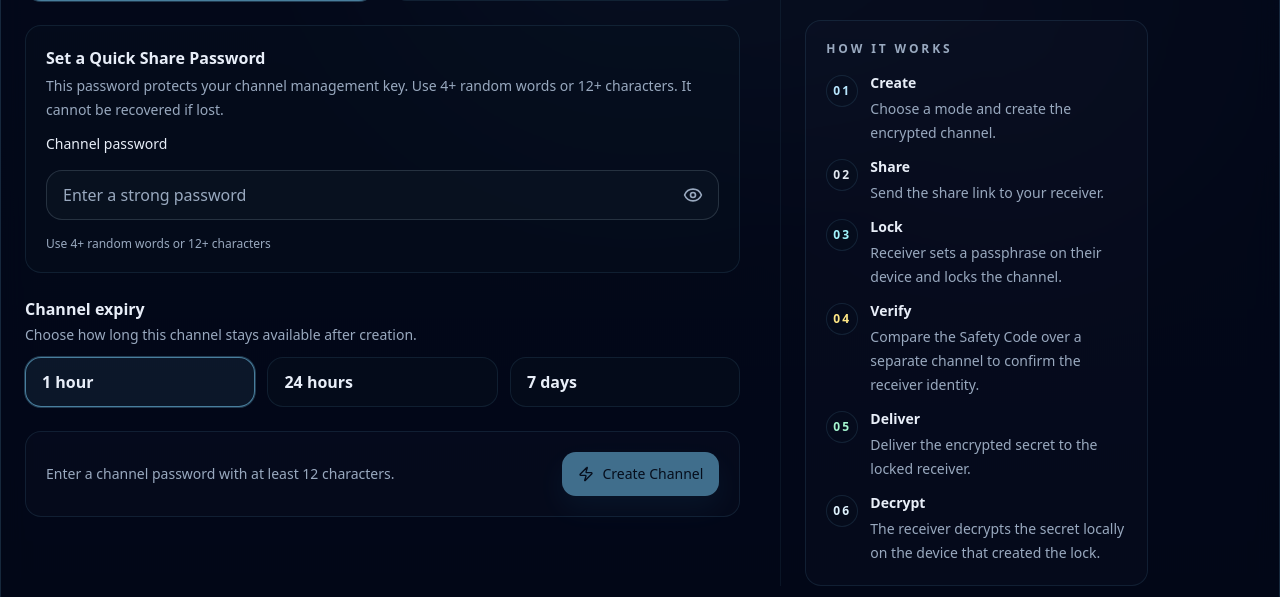
CreatePage integration › shows expiry hint in success summary
The width and height of the screenshot is (1280, 597).
(page scrolled)
Click the radio button with test id "create-ttl-one-day": (383, 382) [267,357,498,407]
(page scrolled)
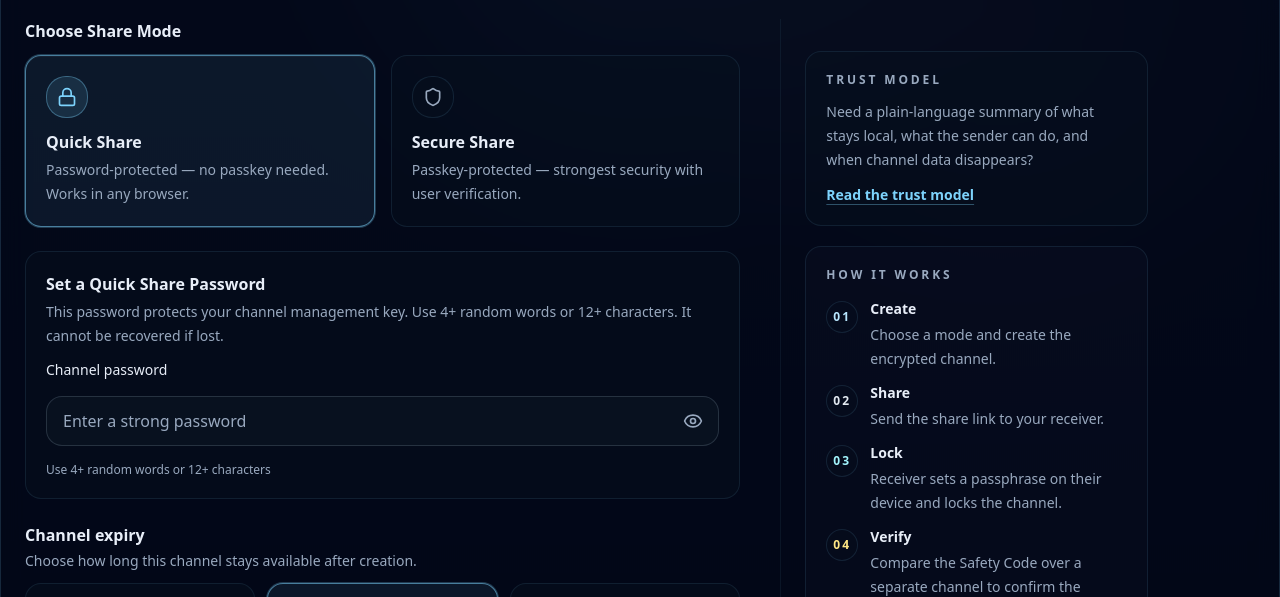
Click the button with test id "mode-card-secure": (433, 97) [391,55,740,227]
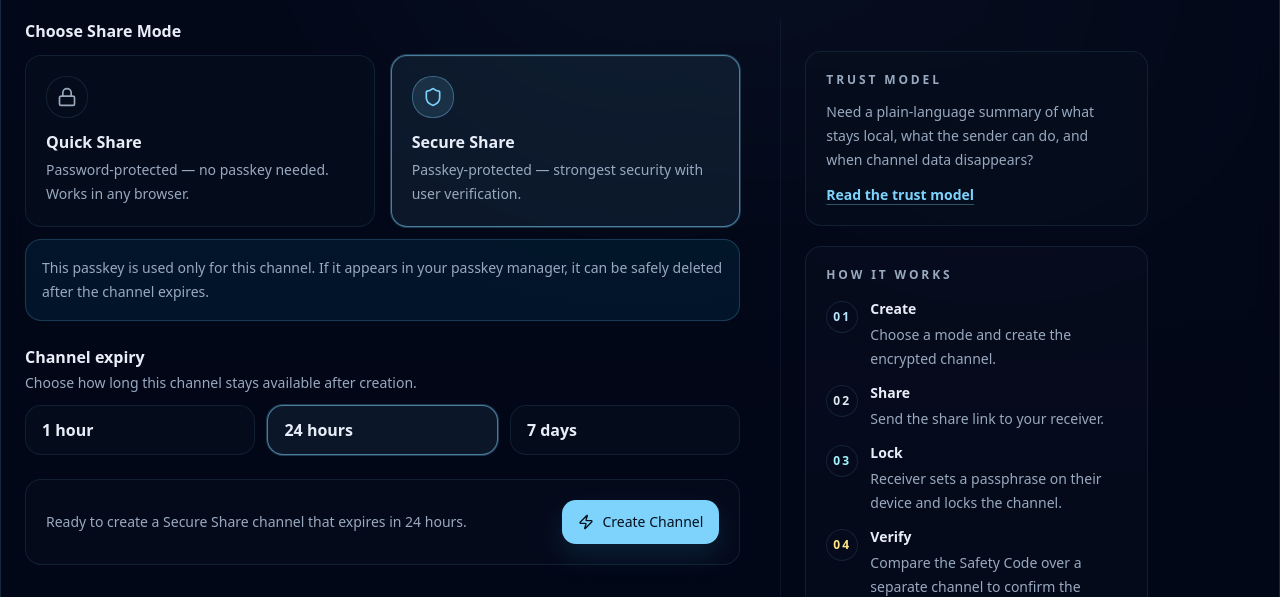
Click the button with test id "create-submit-button": (641, 522) [562,500,719,544]
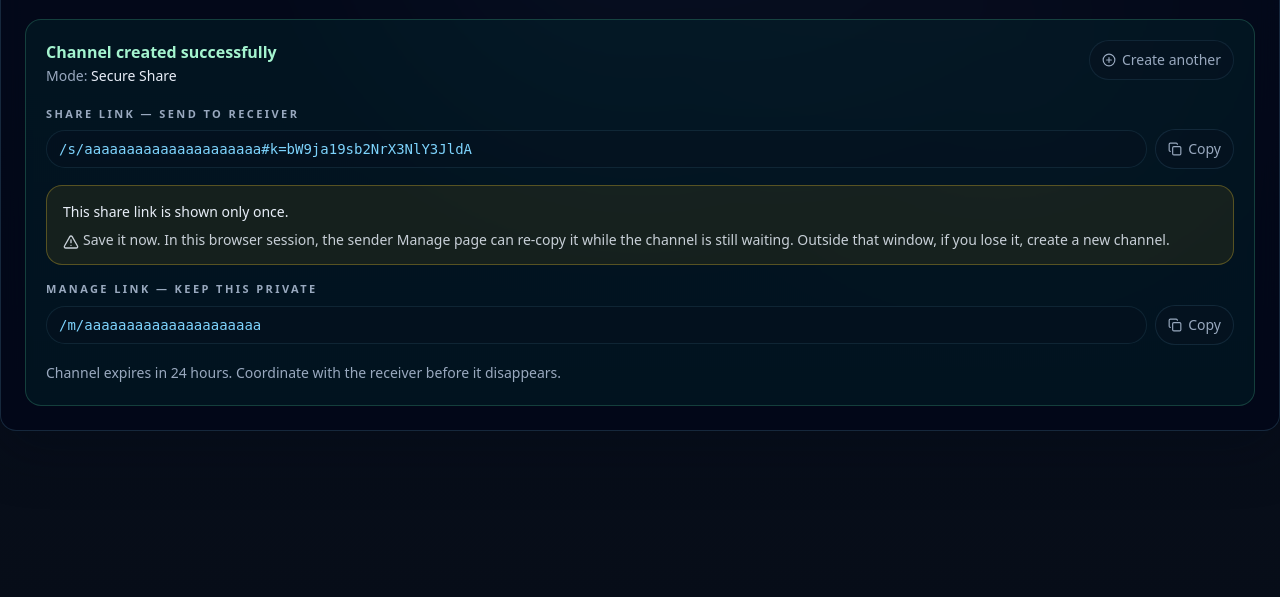
Expected: the text with test id "create-success-expiry-hint" shows "Channel expires in 24 hours", [46,363,561,382]
Expected: the text with test id "create-success-expiry-hint" shows "Coordinate with the receiver before it disappears.", [46,363,561,382]
